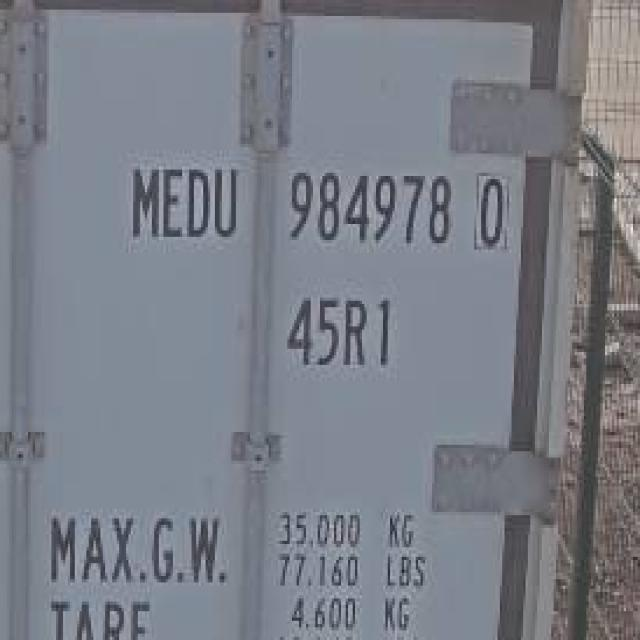dv: (468, 162, 513, 254)
owner: (124, 157, 242, 248)
serial: (280, 157, 456, 255)
size: (281, 285, 402, 376)
